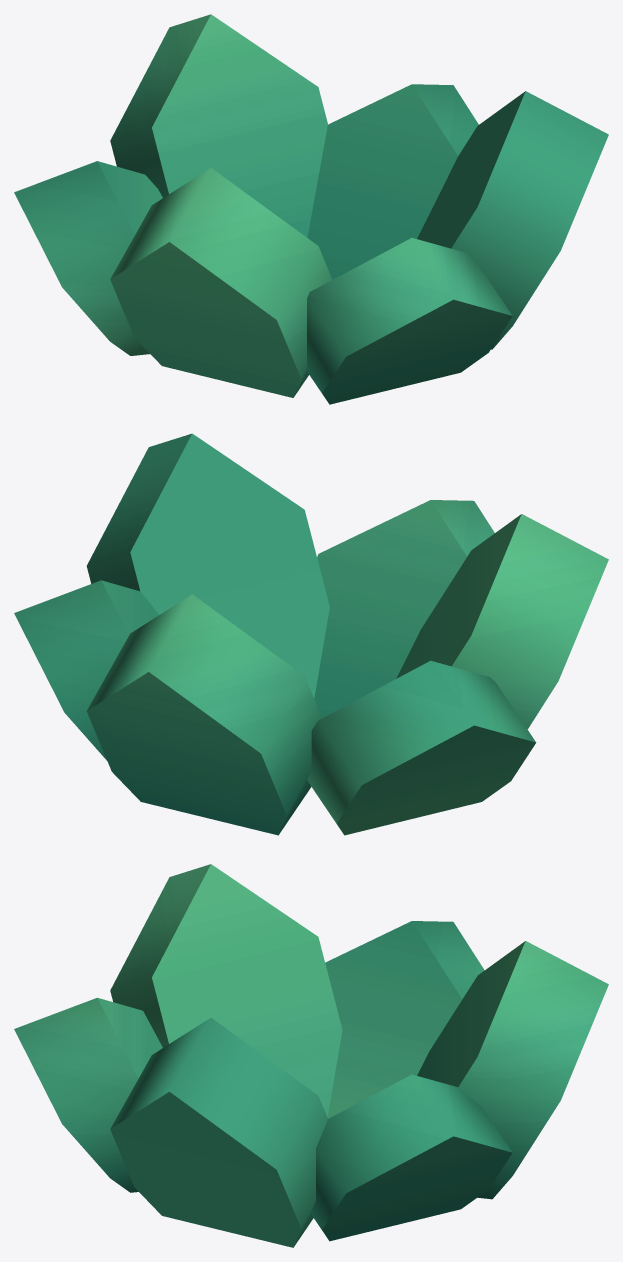
File: bush.glb
3 views of the same model, one above another, from view 1: azimuth 30°, elevation 25°; view 2: azimuth 150°, elevation 25°; view 3: azimuth 270°, elevation 25° (orthographic). The views are drawn at different scales.
Parts seen in each view (by area): view 1: grass-plant; view 2: grass-plant; view 3: grass-plant.
Boxes of the visible parts, x1,y1,x2,y2 form: grass-plant: (14, 14, 608, 404); grass-plant: (14, 433, 608, 835); grass-plant: (14, 864, 608, 1247).
Size of the model in its own units: 2.57 by 1.2 by 2.86.
1 material, 1 textured.
